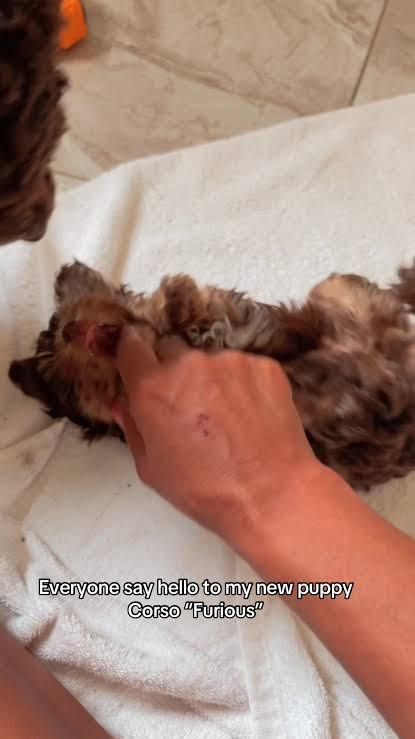adult_dog: (1, 1, 69, 250)
puppy-dog: (7, 260, 415, 494)
